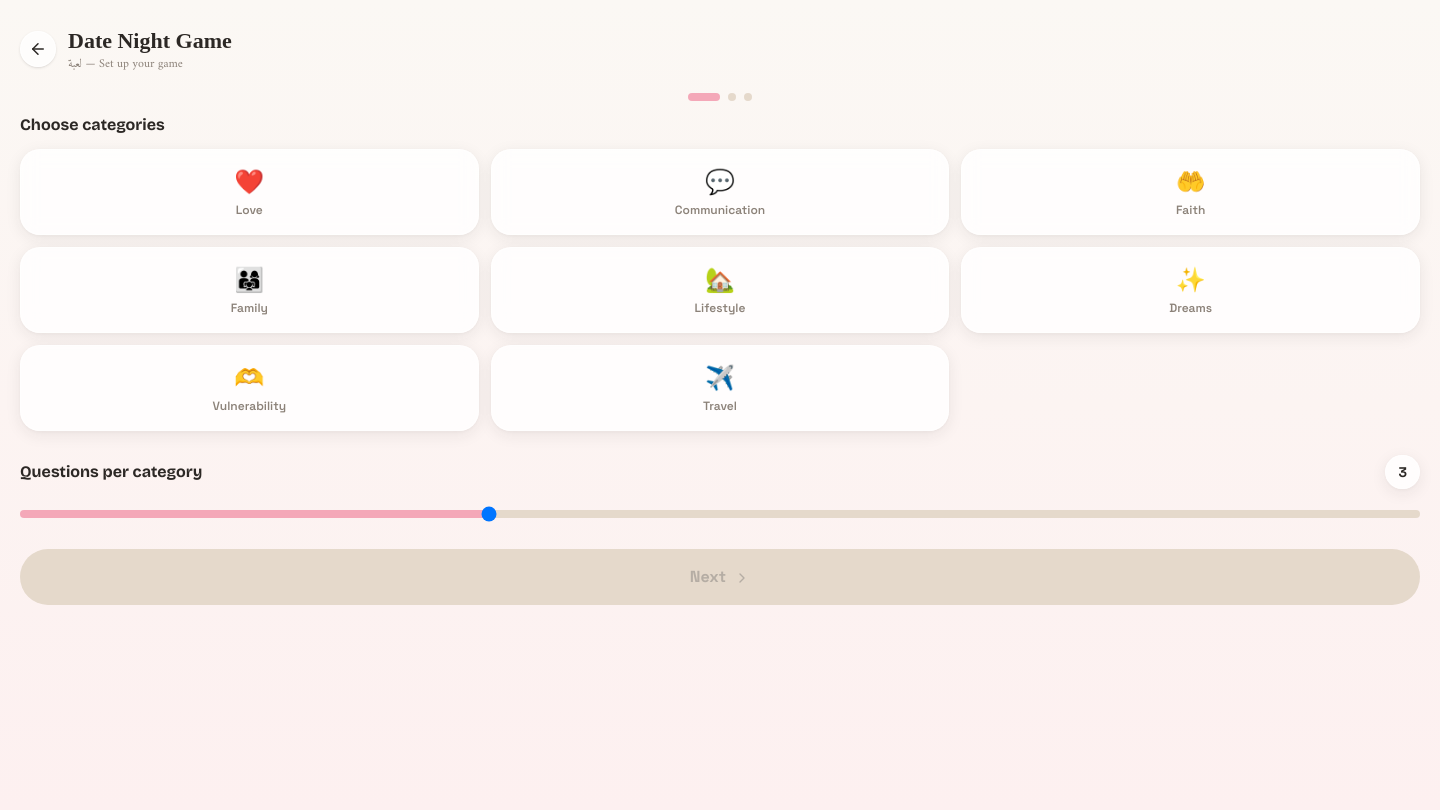
Test: DateNightSetup › navigates back through wizard steps
Click the text "Love". click: [249, 210]
box: [236,202,263,218]
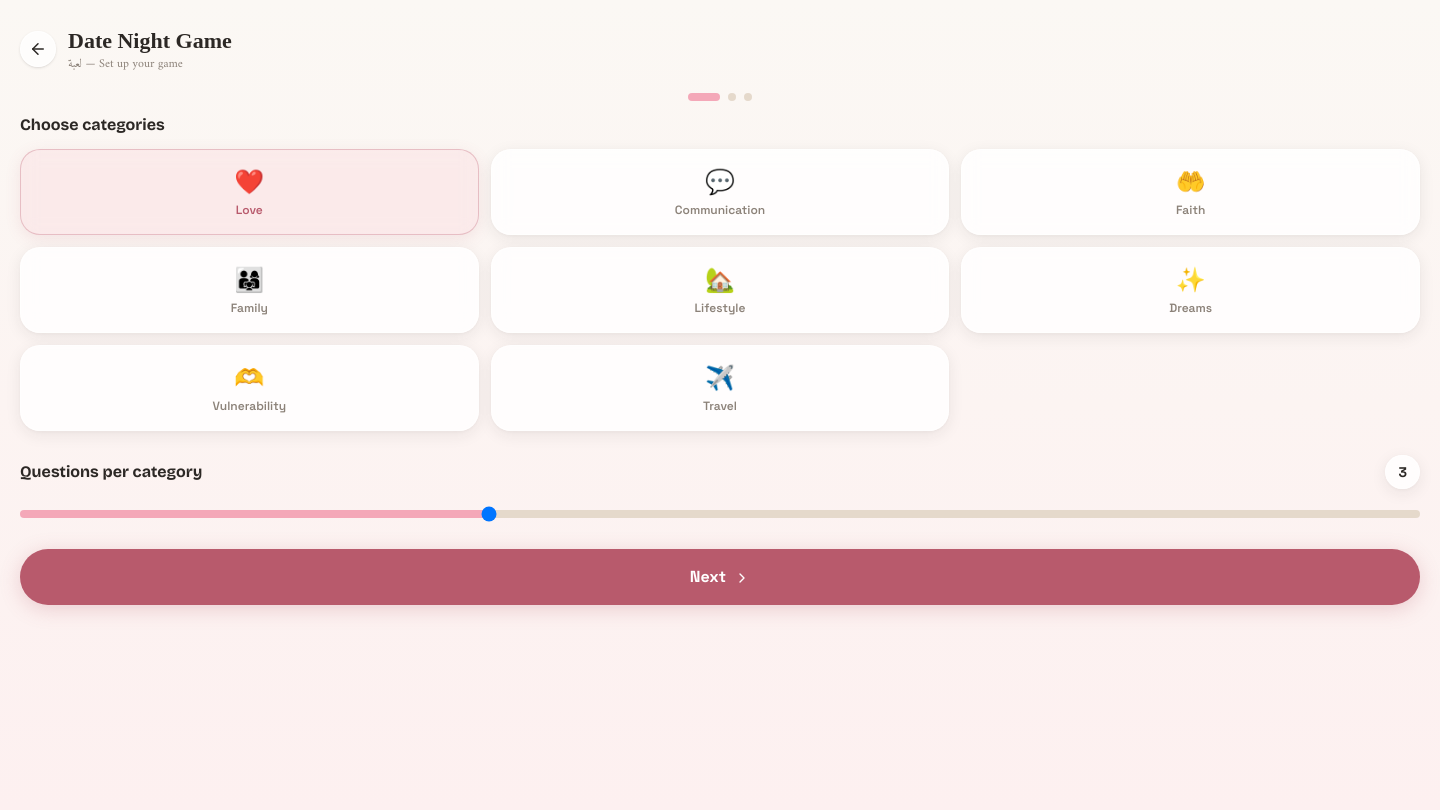
Click the button "Next". click: [720, 577]
box: [20,549,1420,605]
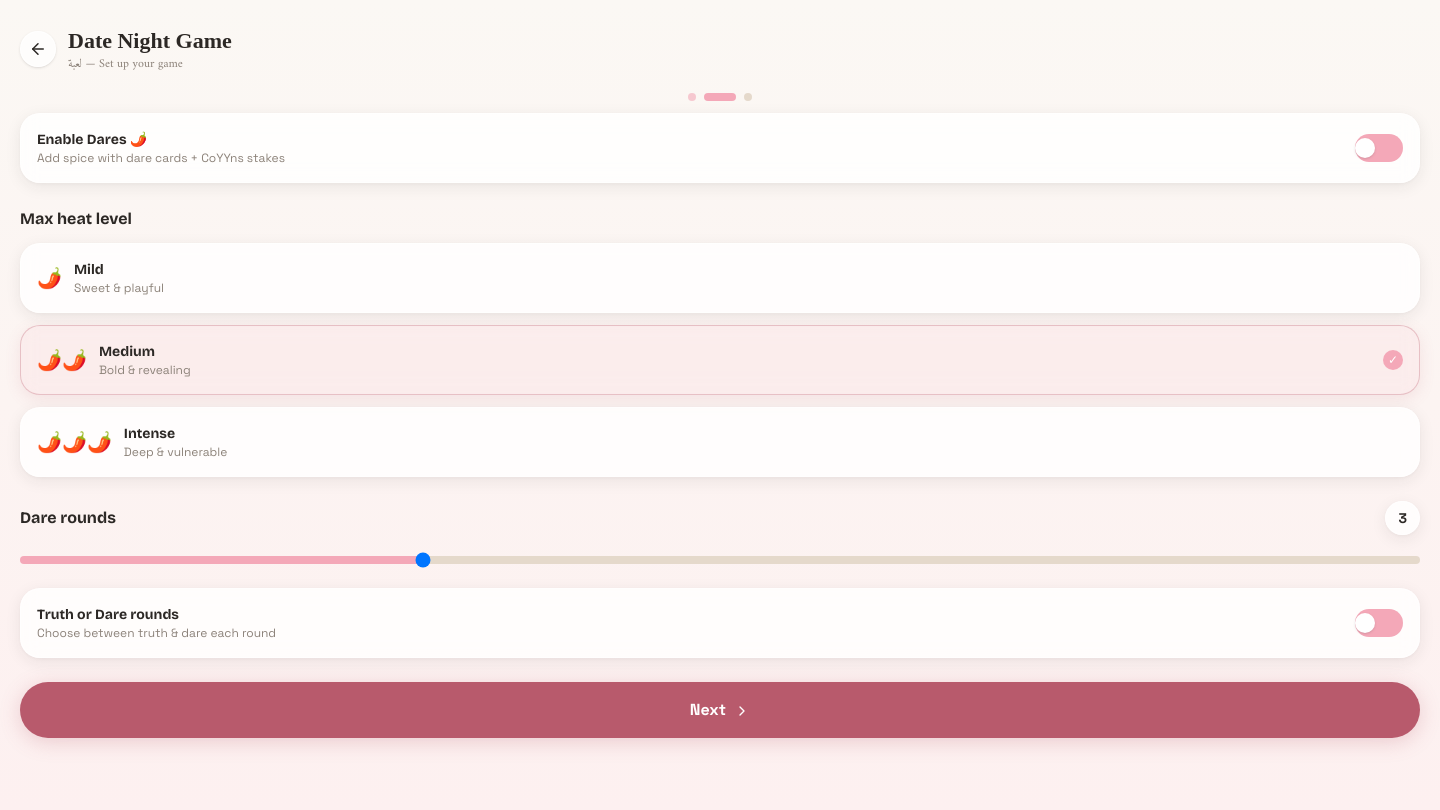
# Click the back arrow (first button)
Click the button without text next to "Date Night Game". click: [38, 48]
box: [20,30,56,66]
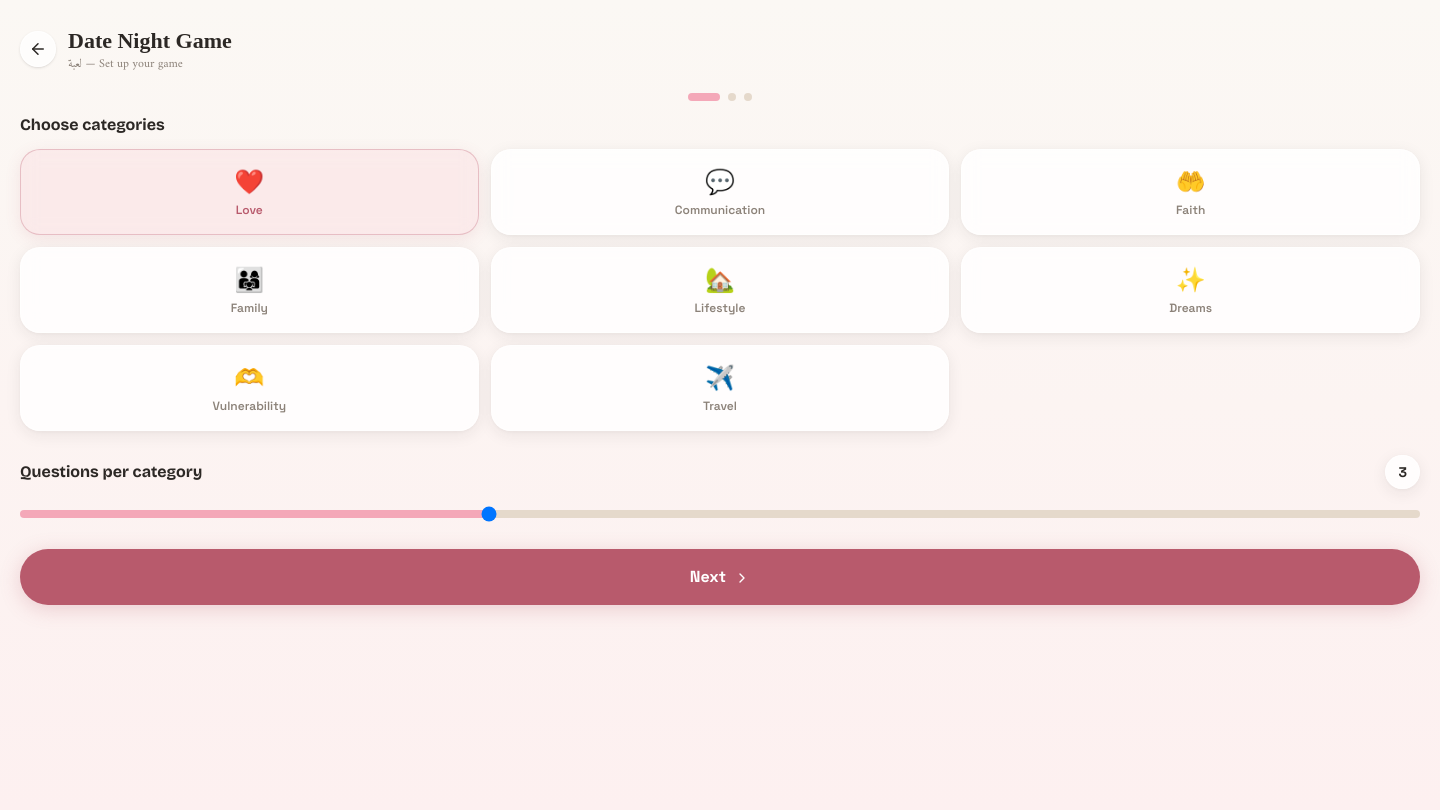
Result: the heading "Choose categories" is shown at [20,115,165,134]
